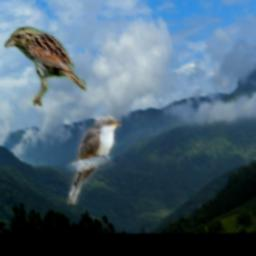Cuckoo: (67, 115, 122, 204)
Sparrow: (6, 26, 87, 106)
